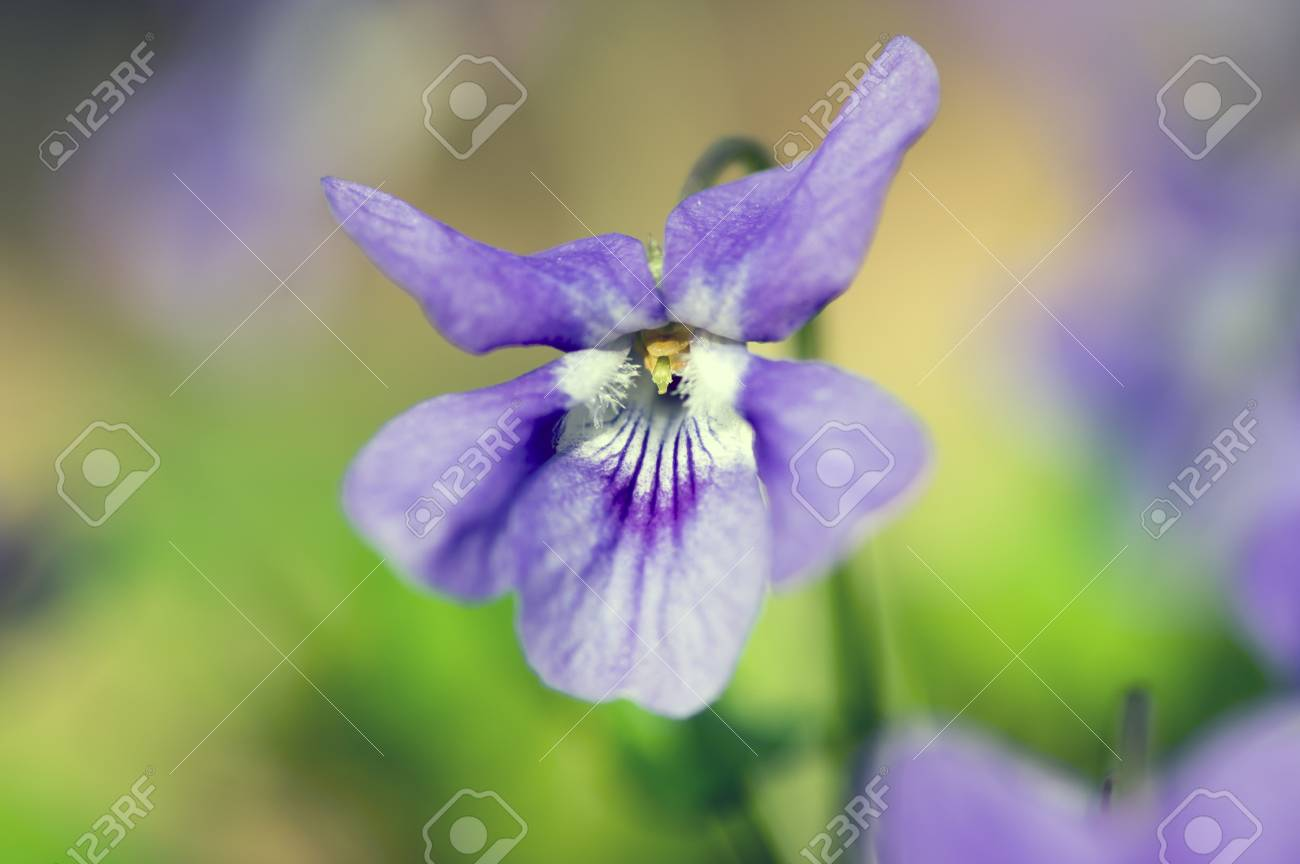violet: (265, 74, 973, 718)
